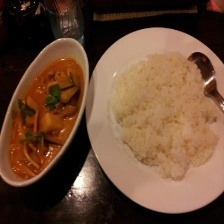rice: (107, 51, 218, 179)
